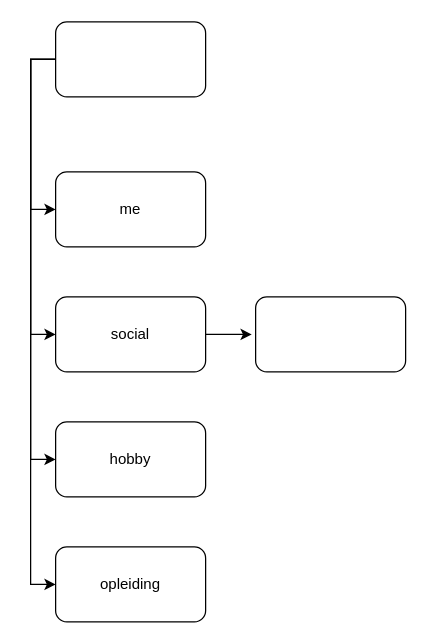
Image size: 428x644. Some labels were removed from this diagram. Here are the shapes that lost their labels. From the top down, the box of each, then its label:
(54, 21, 206, 97): home page
(254, 296, 406, 372): links naar social
